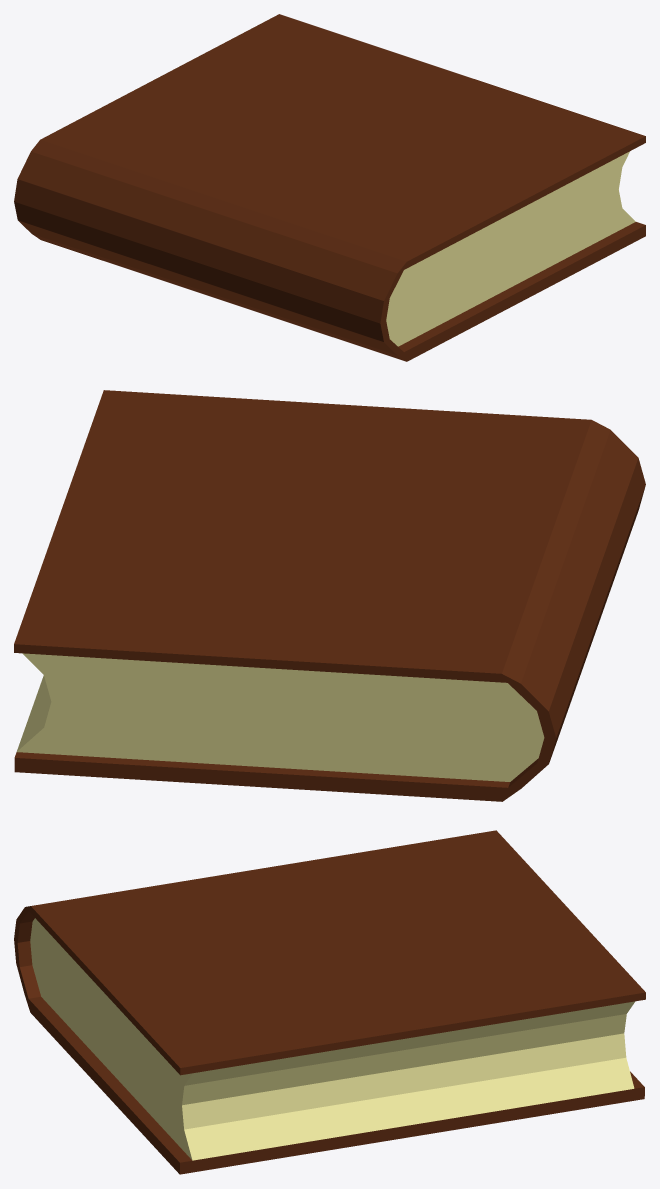
Rendered from Book.glb.
The picture shows the model from 3 angles, top to bottom: view 1: azimuth 30°, elevation 25°; view 2: azimuth 150°, elevation 25°; view 3: azimuth 270°, elevation 25°; orthographic projection. The views are drawn at different scales.
Visible parts, largest first — view 1: Book; view 2: Book; view 3: Book.
Part boxes in pixels (box(x1,y1,x2,y2)): Book: box(14, 14, 645, 361); Book: box(14, 390, 645, 801); Book: box(14, 830, 645, 1174).
Size of the model in its own units: 0.39 by 0.0777 by 0.4069.
